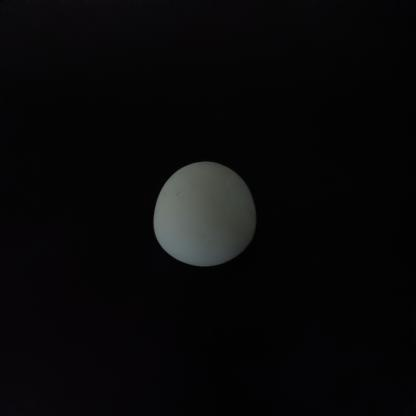egg: (152, 149, 270, 268)
